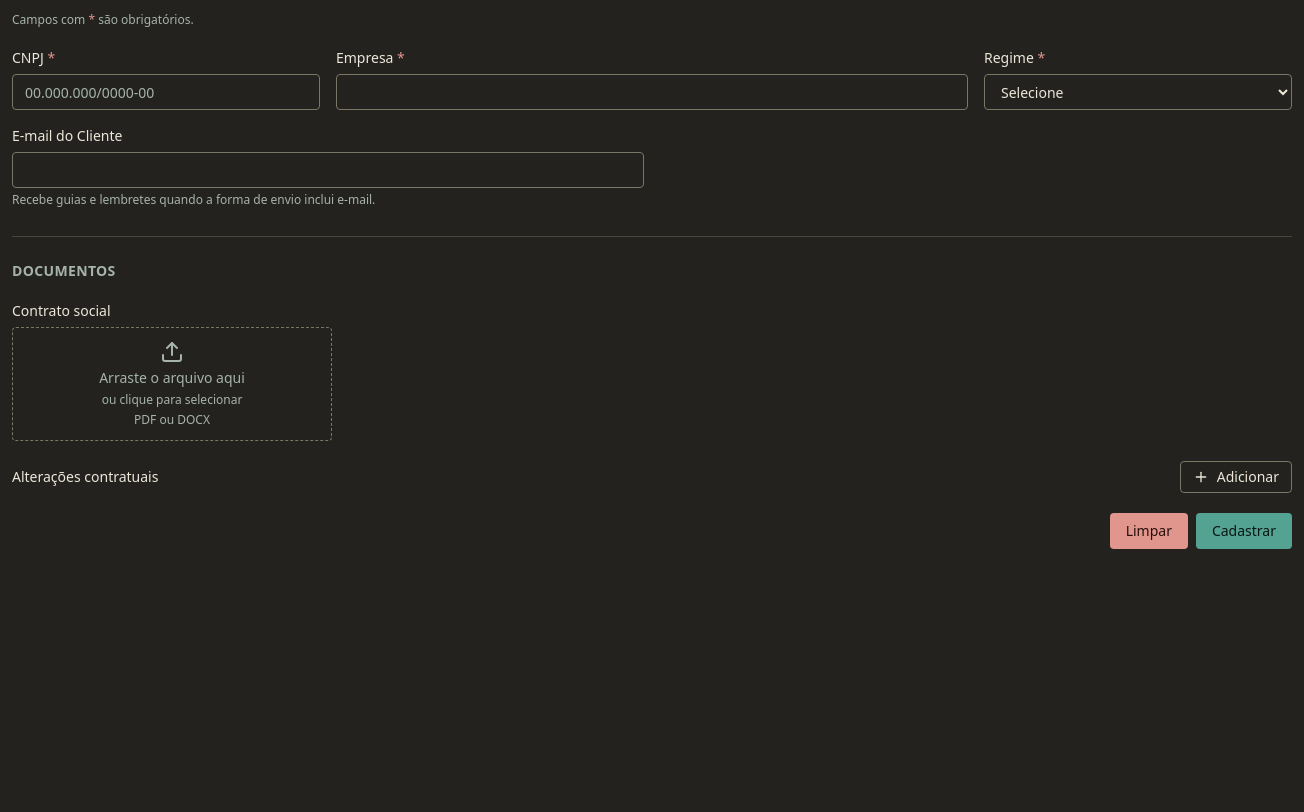
Test: CriarClienteContainer › some o aviso de Regime assim que o usuário seleciona manualmente
Step 1. Type "11.444.777/0001-61" into the field labelled "CNPJ *" → x=166, y=92, box [12,74,320,110]
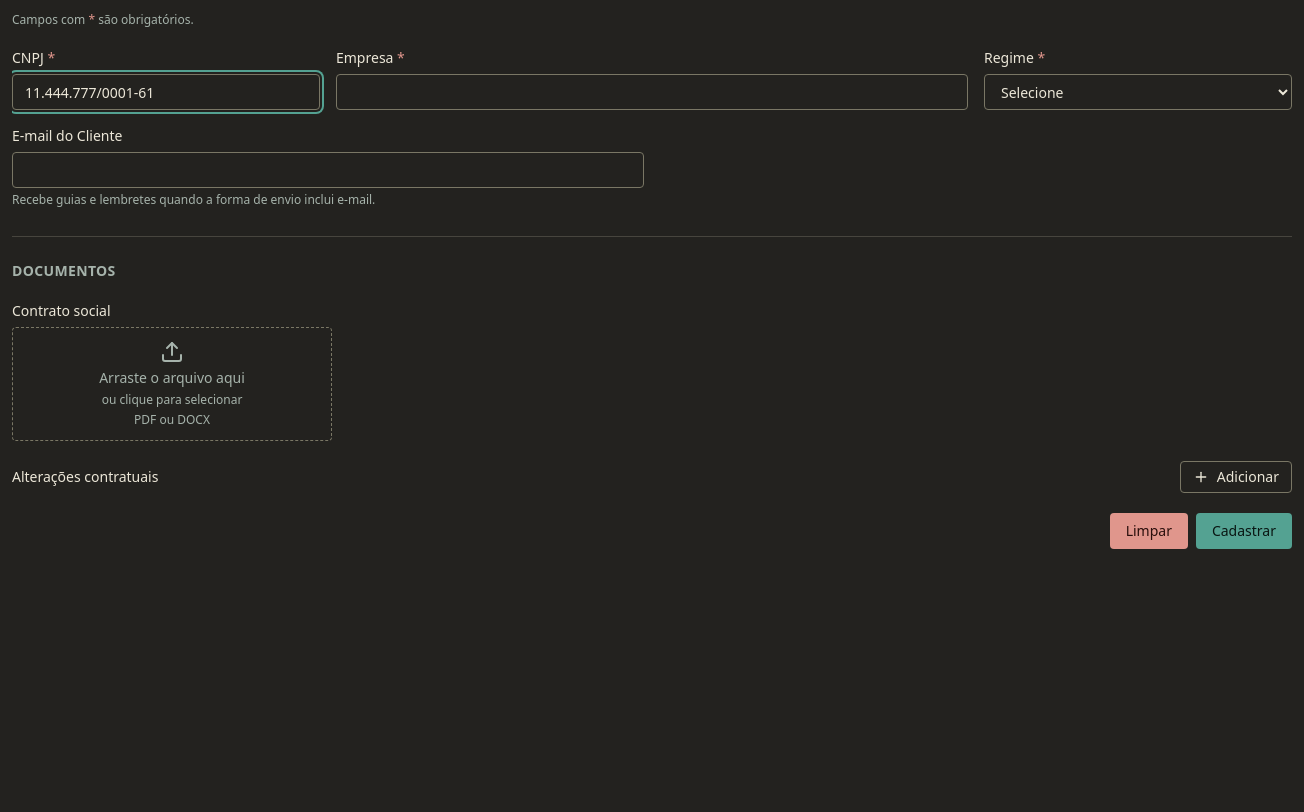
Step 2. Press Tab
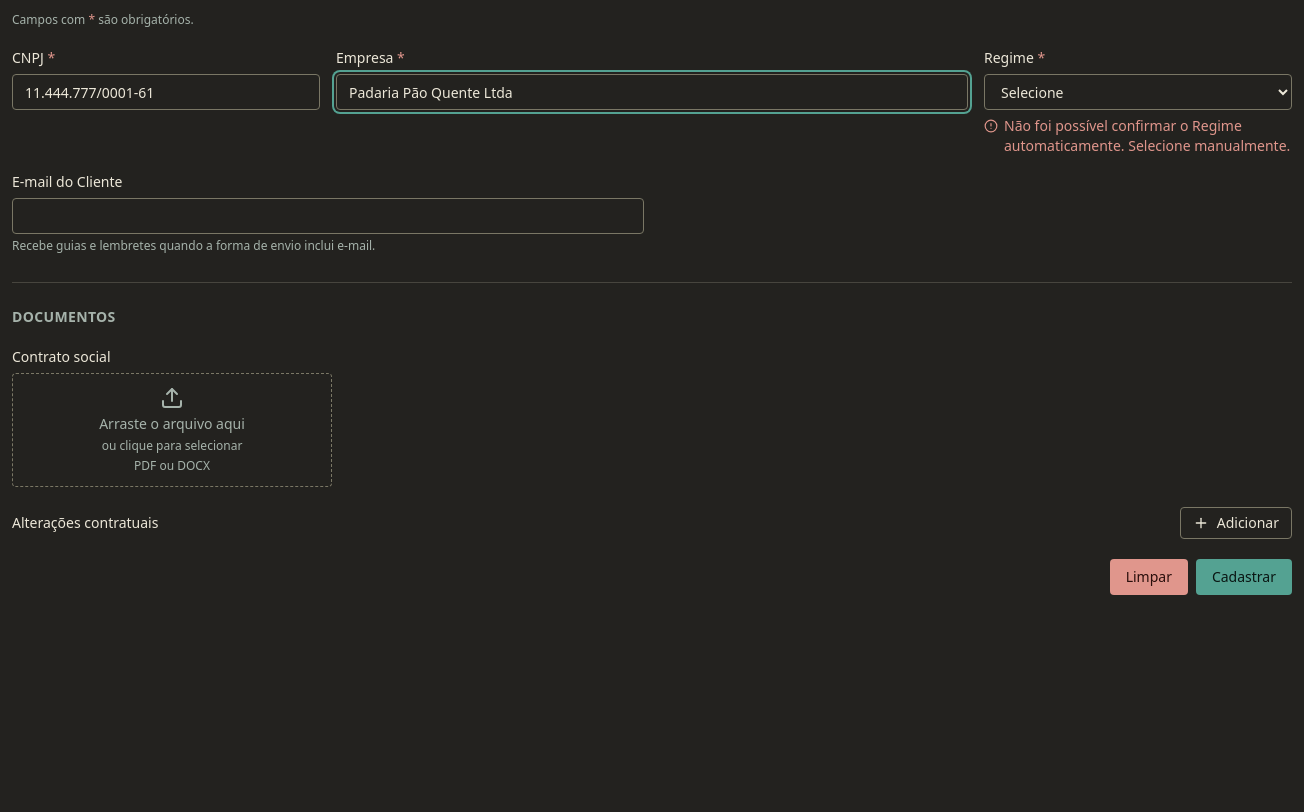
Now the text "Não foi possível confirmar o Regime automaticamente. Selecione manualmente." is shown, box [984,116,1292,156]
Step 3. Select "Simples Nacional" in the dropdown labelled "Regime *" → x=1138, y=92, box [984,74,1292,110]
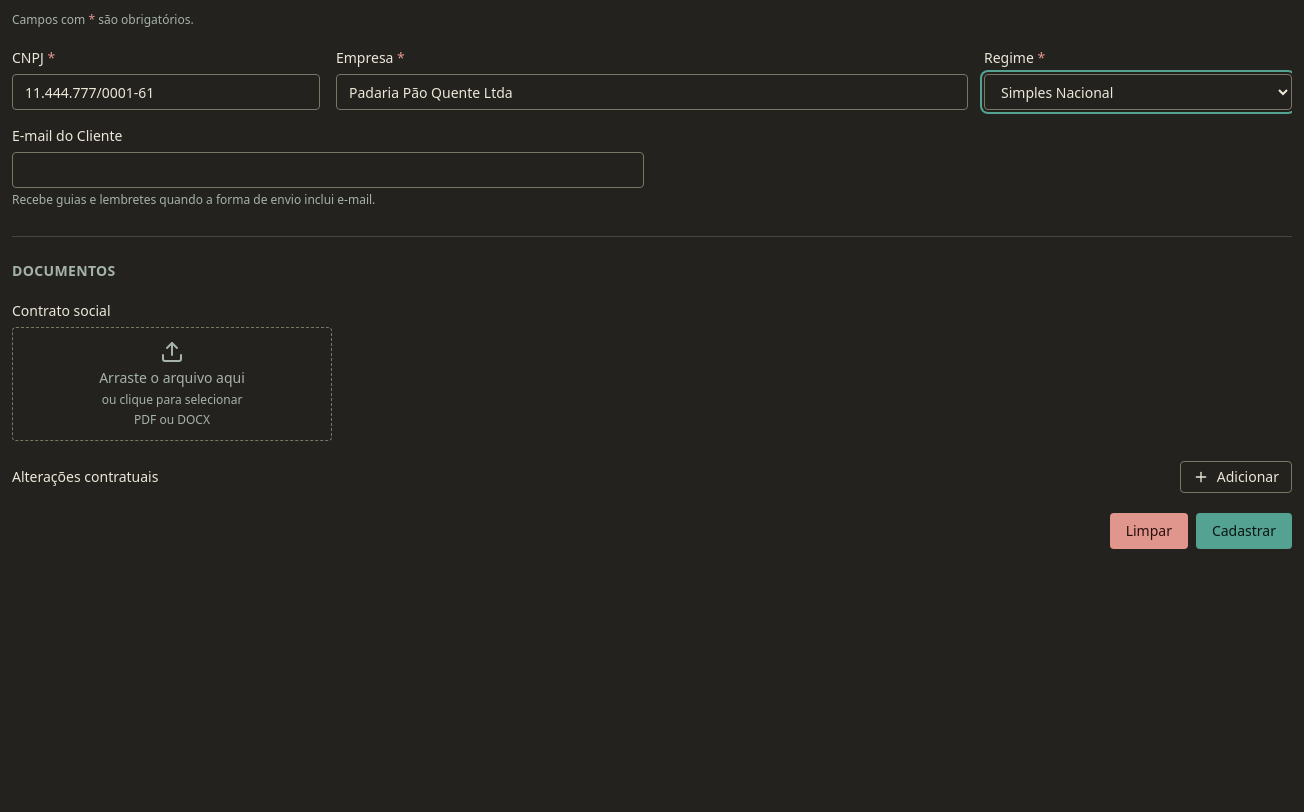
Now the text "Não foi possível confirmar o Regime" is gone
